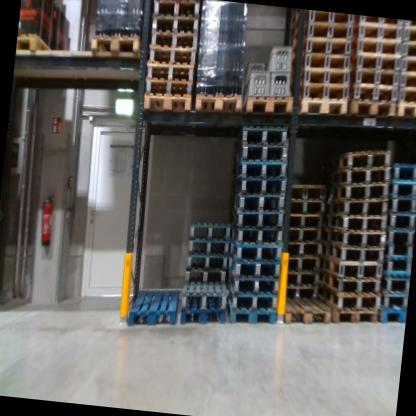pallet: (124, 277, 182, 333), (82, 25, 144, 71), (221, 291, 283, 334), (335, 135, 396, 176), (311, 276, 381, 310), (312, 263, 383, 296), (310, 294, 383, 326), (224, 261, 284, 299), (320, 206, 387, 240), (328, 153, 392, 188), (189, 87, 242, 127), (315, 236, 388, 265), (230, 166, 292, 199), (316, 250, 382, 281), (224, 217, 284, 251), (180, 268, 229, 309), (325, 186, 389, 217), (177, 294, 230, 331), (231, 186, 287, 221), (225, 277, 279, 313), (139, 88, 193, 123), (290, 35, 353, 65), (318, 223, 387, 250), (332, 174, 388, 206), (244, 85, 295, 120), (279, 293, 331, 327), (289, 50, 352, 78), (235, 151, 288, 184), (286, 63, 350, 90), (224, 236, 283, 265), (289, 20, 351, 47), (286, 8, 353, 32), (226, 252, 281, 281), (148, 10, 203, 39), (16, 35, 63, 68), (238, 120, 288, 151), (229, 204, 284, 232), (341, 94, 393, 123), (235, 137, 290, 163), (293, 79, 350, 103), (142, 76, 196, 101), (347, 50, 401, 75), (181, 257, 228, 285), (182, 245, 228, 273), (185, 216, 232, 242), (145, 42, 197, 65), (351, 20, 403, 43), (349, 84, 400, 107), (346, 69, 399, 91), (145, 58, 193, 82), (293, 96, 350, 116), (350, 36, 401, 58), (150, 27, 198, 50), (186, 229, 230, 254), (280, 252, 322, 278), (374, 250, 411, 279), (282, 198, 326, 222), (284, 210, 324, 234), (376, 266, 409, 295), (278, 283, 316, 308), (287, 178, 327, 200), (282, 225, 323, 246), (375, 304, 406, 330), (152, 0, 198, 17), (385, 162, 416, 187), (380, 223, 414, 245), (383, 193, 416, 215), (387, 177, 416, 202), (280, 273, 319, 291), (347, 16, 404, 28), (378, 289, 407, 312), (282, 243, 322, 258), (383, 241, 412, 260), (395, 96, 416, 120), (389, 212, 415, 230), (396, 52, 416, 75), (397, 84, 416, 105), (399, 39, 416, 61), (396, 68, 416, 86), (403, 25, 416, 43), (405, 20, 416, 30)
